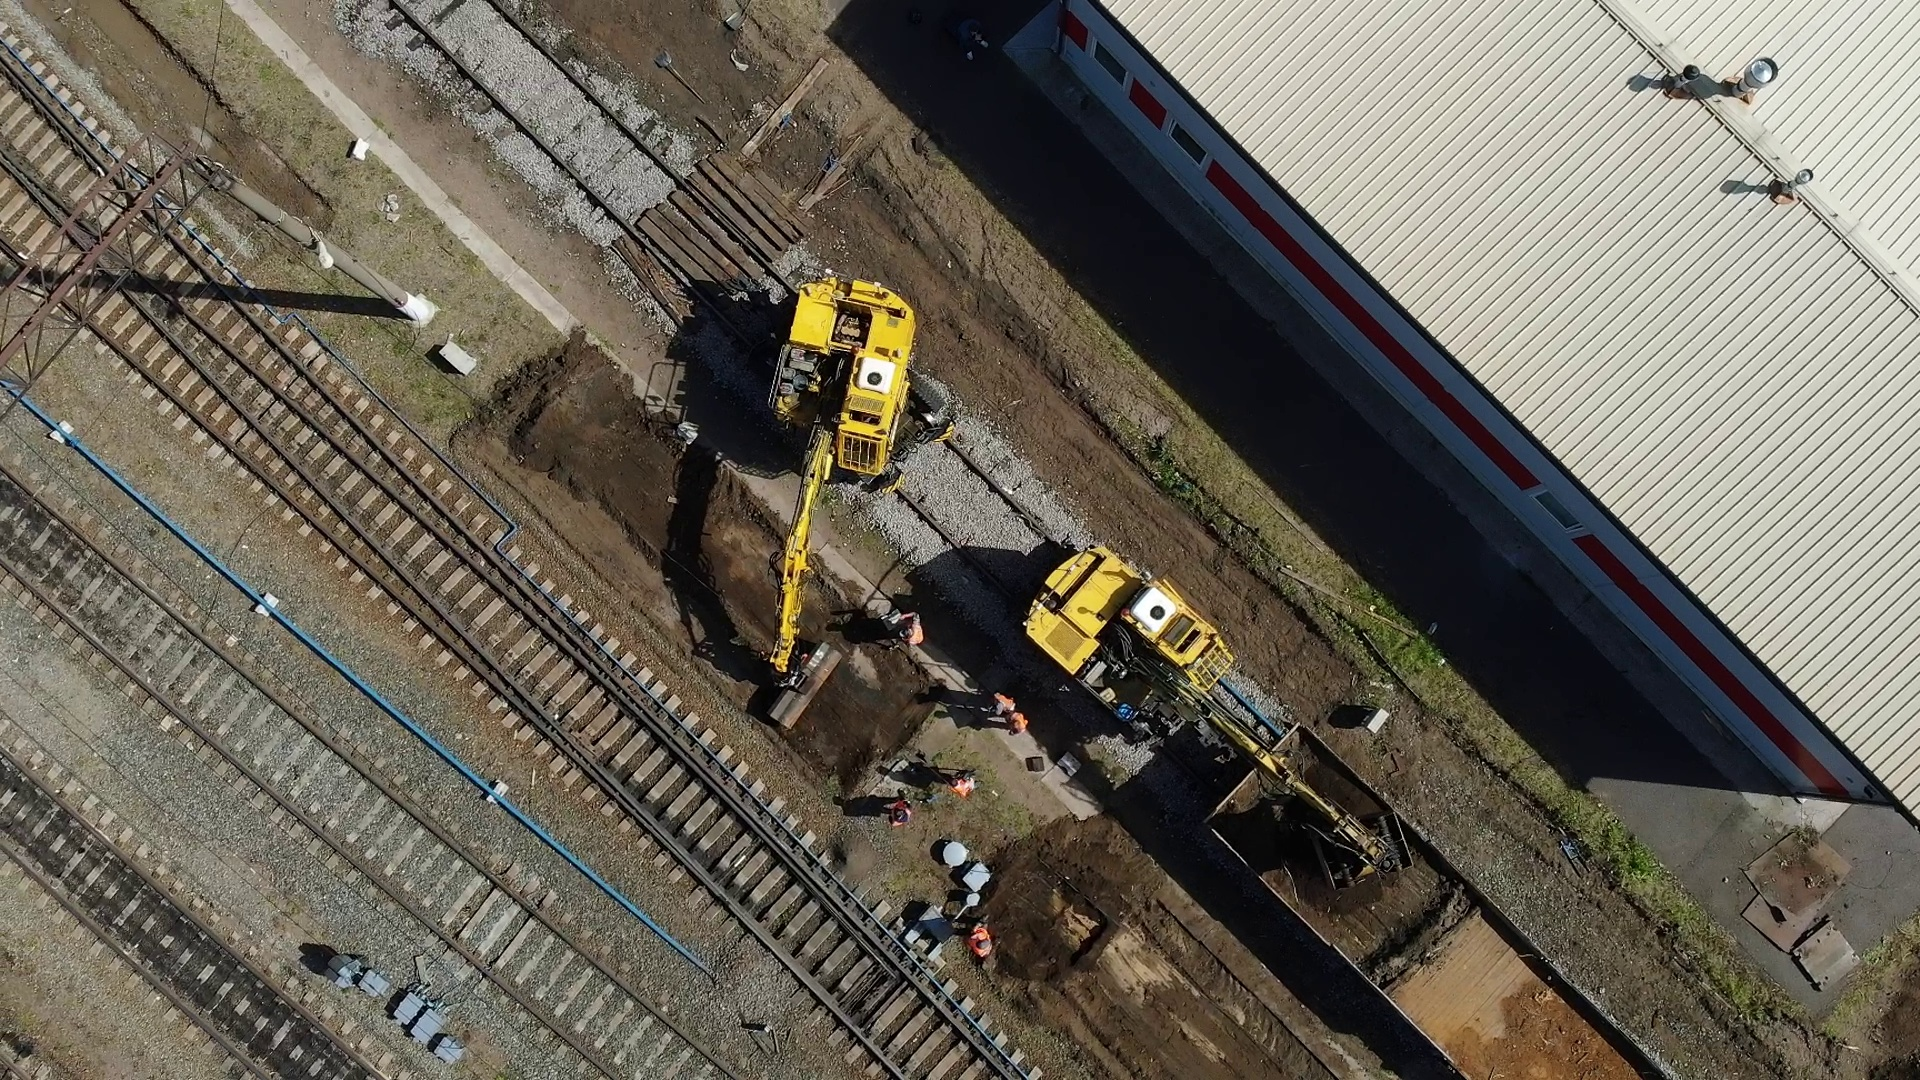kjtv: (770, 272, 951, 506), (1029, 537, 1224, 742)
